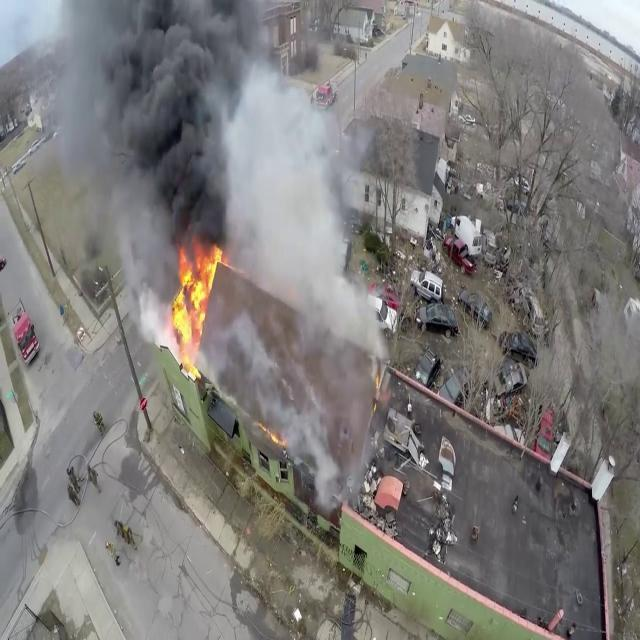Fire: (169, 232, 227, 371)
Smoke: (54, 0, 387, 333)
